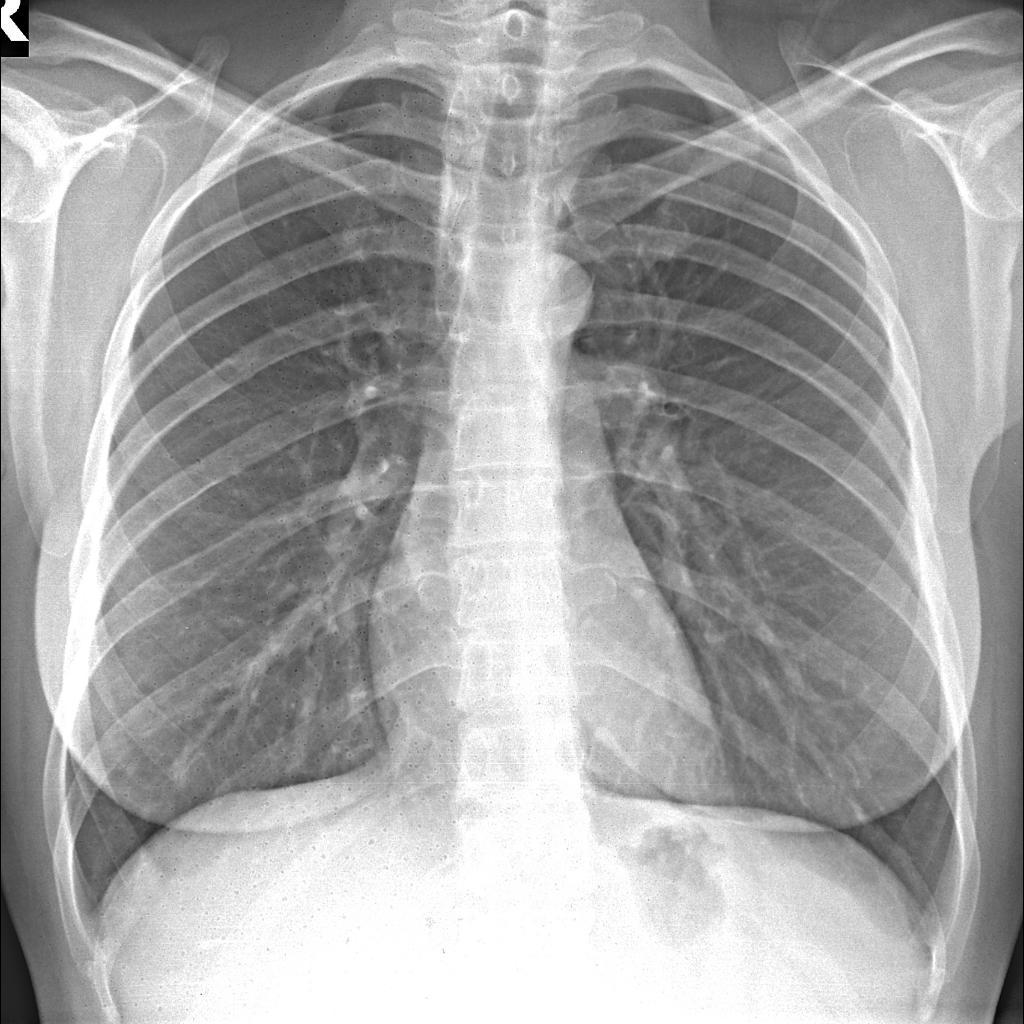Nodule: (162, 738, 208, 807)
